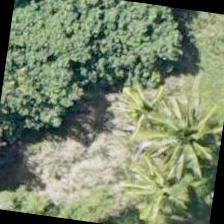Kelapa_Sawit: (130, 75, 223, 177), (127, 152, 219, 223)
